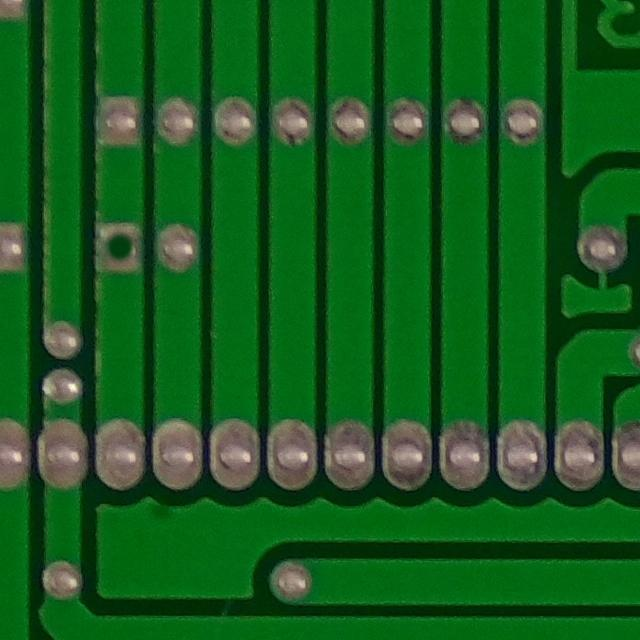missing_hole: (97, 222, 150, 275)
